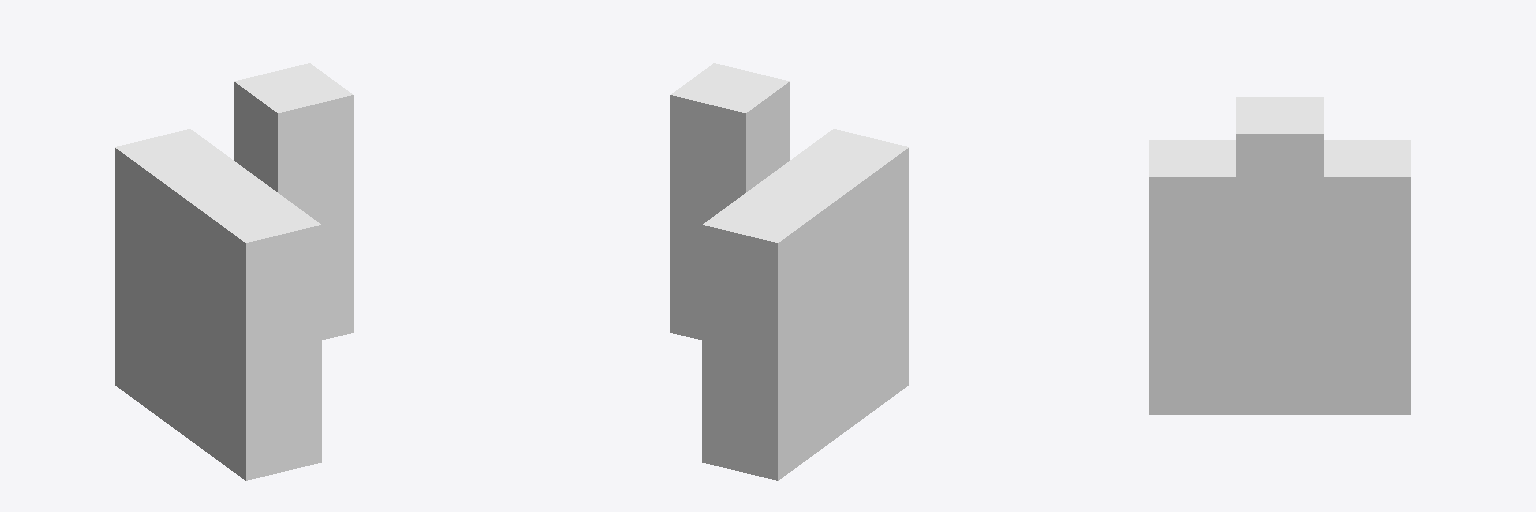
The model's file is people_3-2.obj.
3 views of the same model, side by side, from view 1: azimuth 30°, elevation 25°; view 2: azimuth 150°, elevation 25°; view 3: azimuth 270°, elevation 25° (orthographic).
Visible parts, largest first — view 1: object 1; view 2: object 1; view 3: object 1.
Boxes of the visible parts, x1=… form: object 1: x1=115, y1=63, x2=353, y2=480; object 1: x1=670, y1=63, x2=908, y2=480; object 1: x1=1149, y1=97, x2=1410, y2=414.
Bounding box in the file's own units: 0.2 × 0.4 × 0.3.